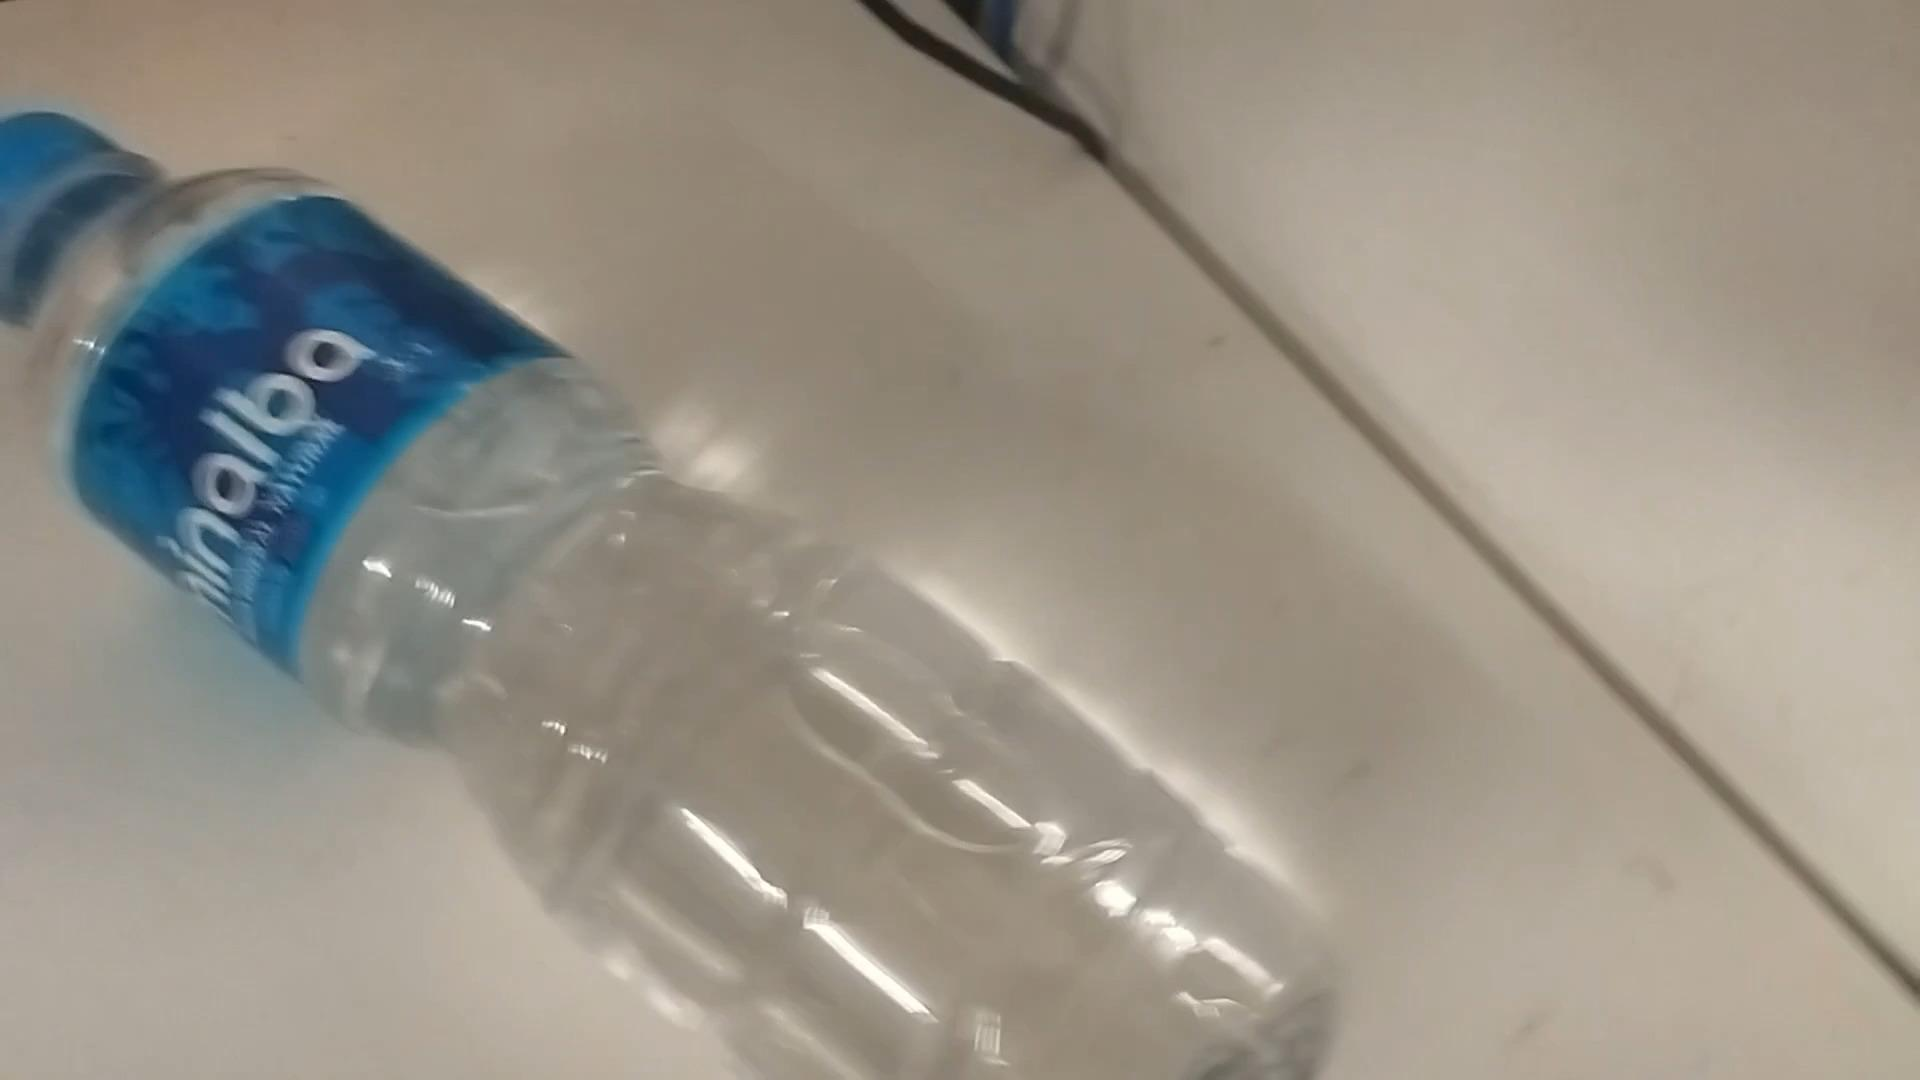agua: (3, 100, 1307, 1080)
